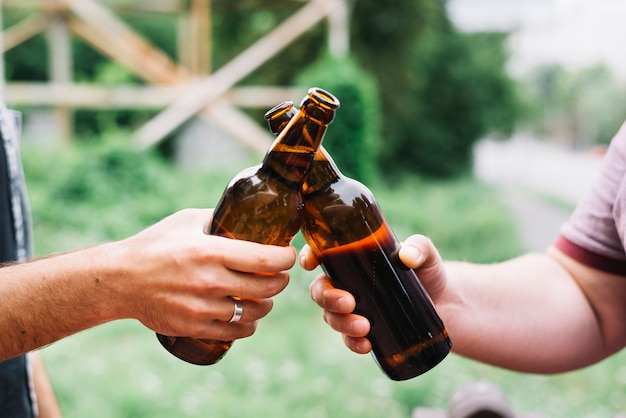alcohol: (265, 98, 455, 382), (152, 87, 342, 367)
